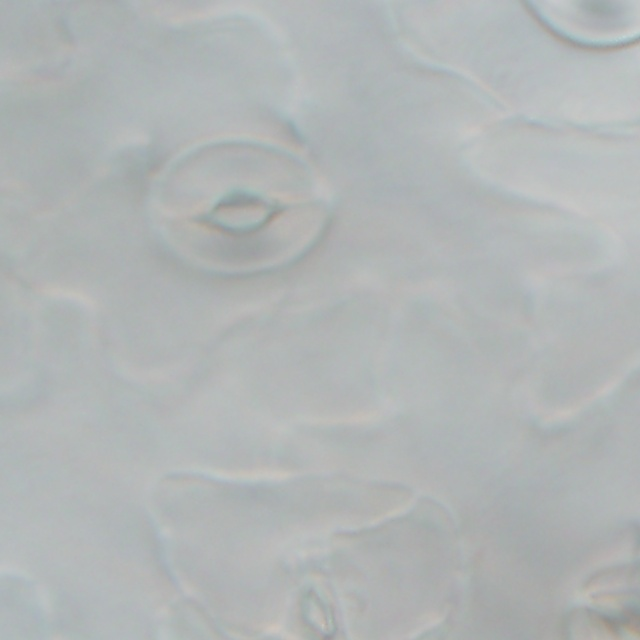center: (202, 190, 282, 232), (556, 20, 608, 28), (585, 596, 618, 608)
stomata-huw1: (152, 141, 329, 274), (272, 547, 371, 639), (564, 564, 639, 639), (525, 0, 639, 48)
